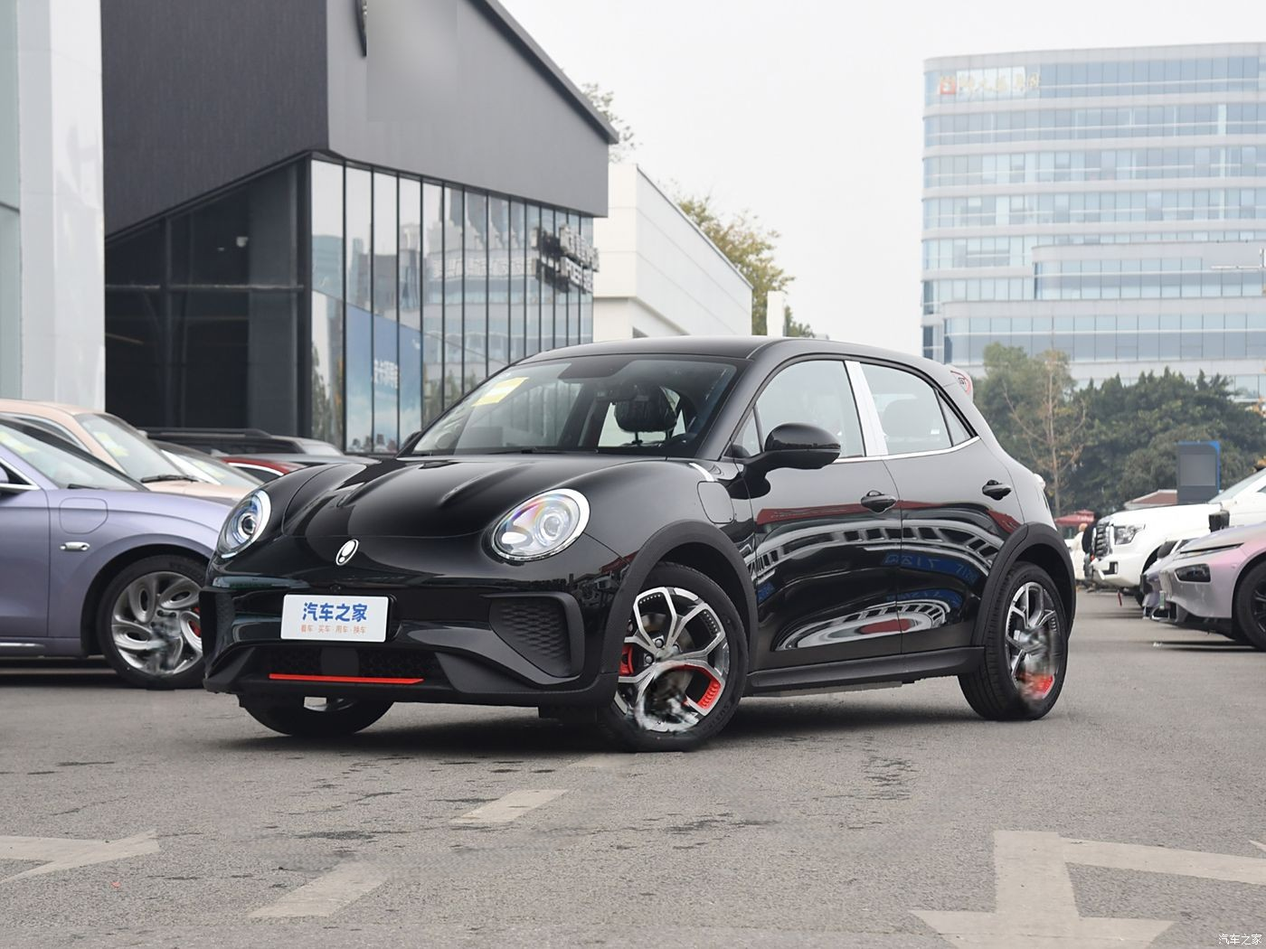ORA: (336, 540, 358, 566)
